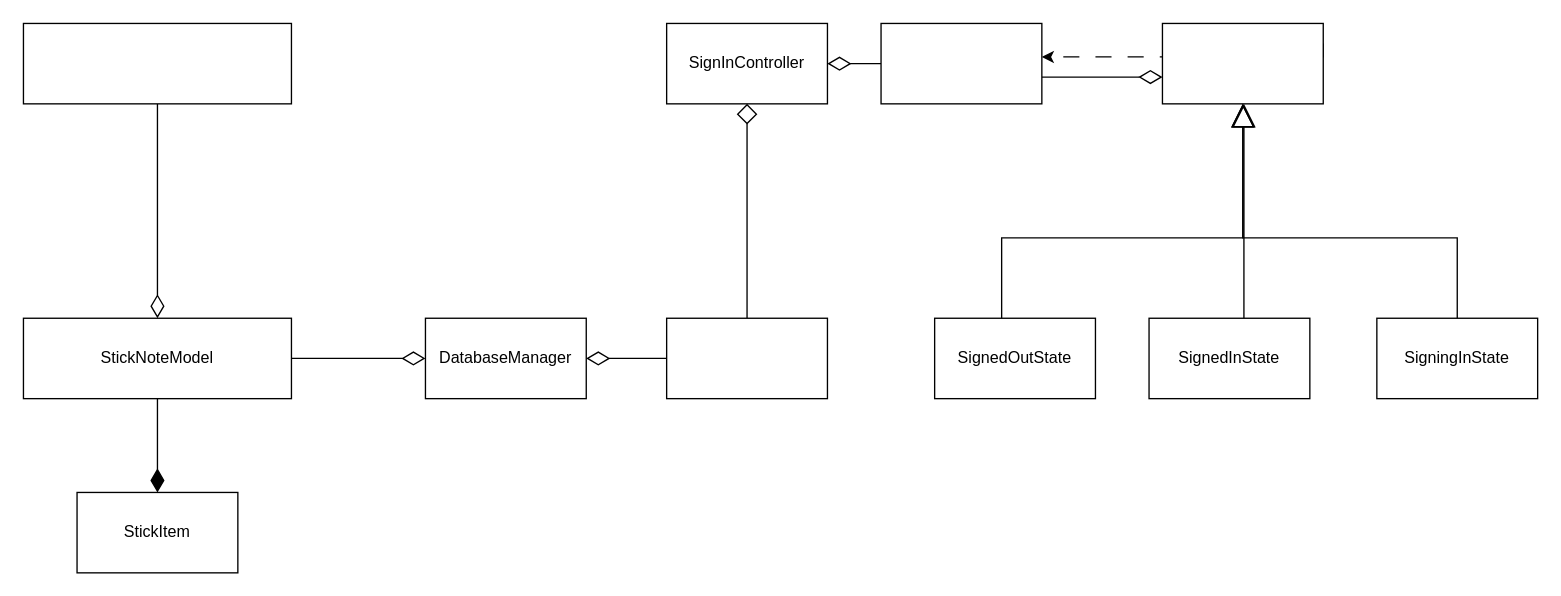
Image size: 1561x596. Some labels were removed from this diagram. The shapes that lost their labels are listed below. From the top down, each one's centre as x and y in pixels, then its label:
At point (156, 63): "StickNoteController".
At point (961, 63): "SignInContext".
At point (1242, 63): "SignInState".
At point (746, 358): "SignInModel".
